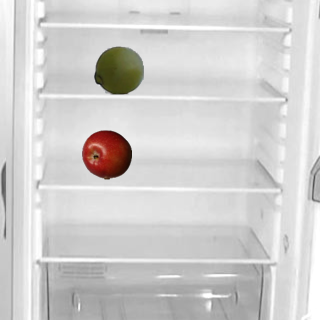Apple Braeburn: (81, 129, 131, 179)
Grape White 4: (93, 44, 143, 94)
